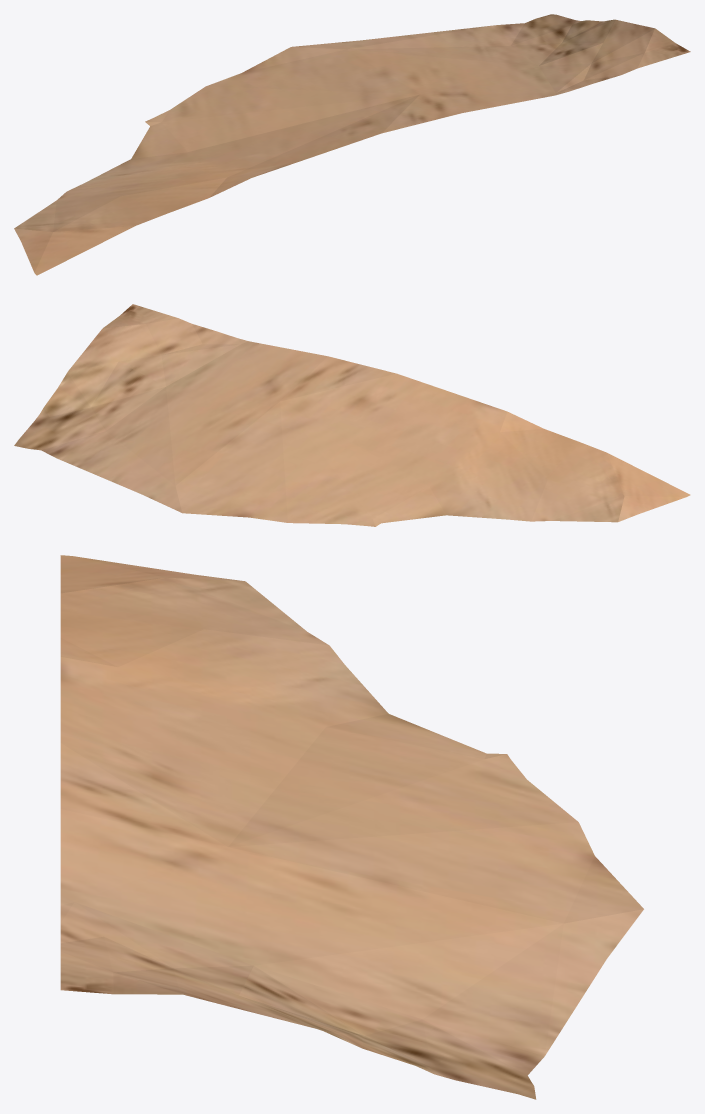
The picture shows the model from 3 angles, top to bottom: view 1: azimuth 30°, elevation 25°; view 2: azimuth 150°, elevation 25°; view 3: azimuth 270°, elevation 25°; orthographic projection. The views are drawn at different scales.
Bounding box in the file's own units: 1.63 × 0.1532 × 0.7386.
Materials: 1 (1 with a texture image).
